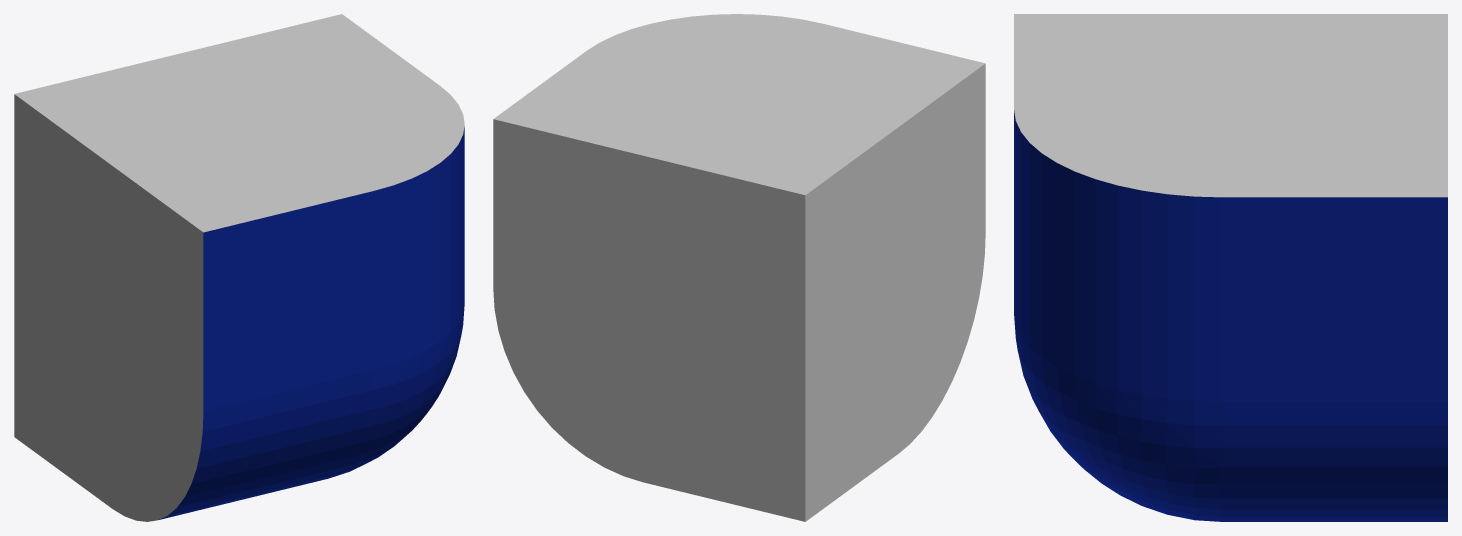
The model's file is case_16.fbx.
3 views of the same model, side by side, from view 1: azimuth 30°, elevation 25°; view 2: azimuth 150°, elevation 25°; view 3: azimuth 270°, elevation 25° (orthographic). The views are drawn at different scales.
Parts seen in each view (by area): view 1: case_16; view 2: case_16; view 3: case_16.
Boxes of the visible parts, x1,y1,x2,y2 form: case_16: [14, 14, 464, 521]; case_16: [493, 14, 985, 521]; case_16: [1014, 14, 1447, 521].
Bounding box in the file's own units: 0.5 × 0.5 × 0.5.
